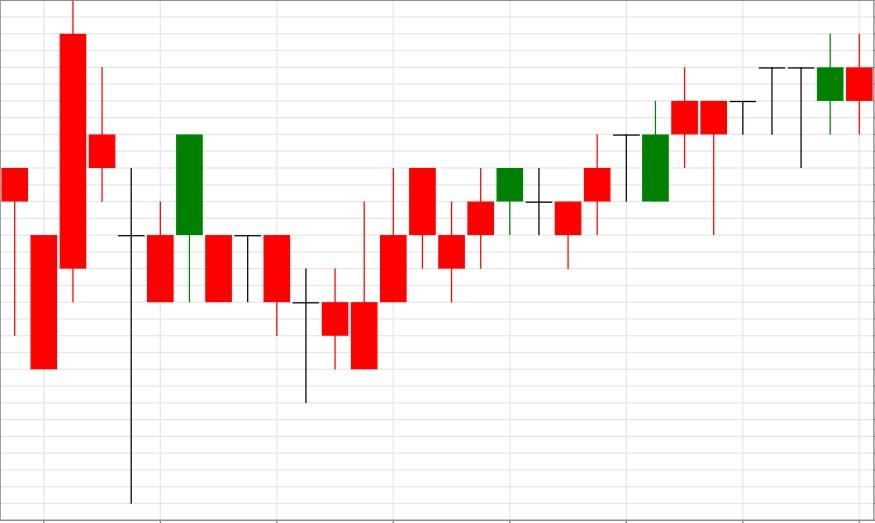three_white_soldiers_rise: (175, 134, 437, 403)
